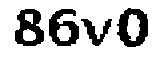0: (117, 6, 152, 54)
6: (46, 8, 81, 49)
8: (13, 7, 44, 48)
v: (81, 16, 114, 47)
